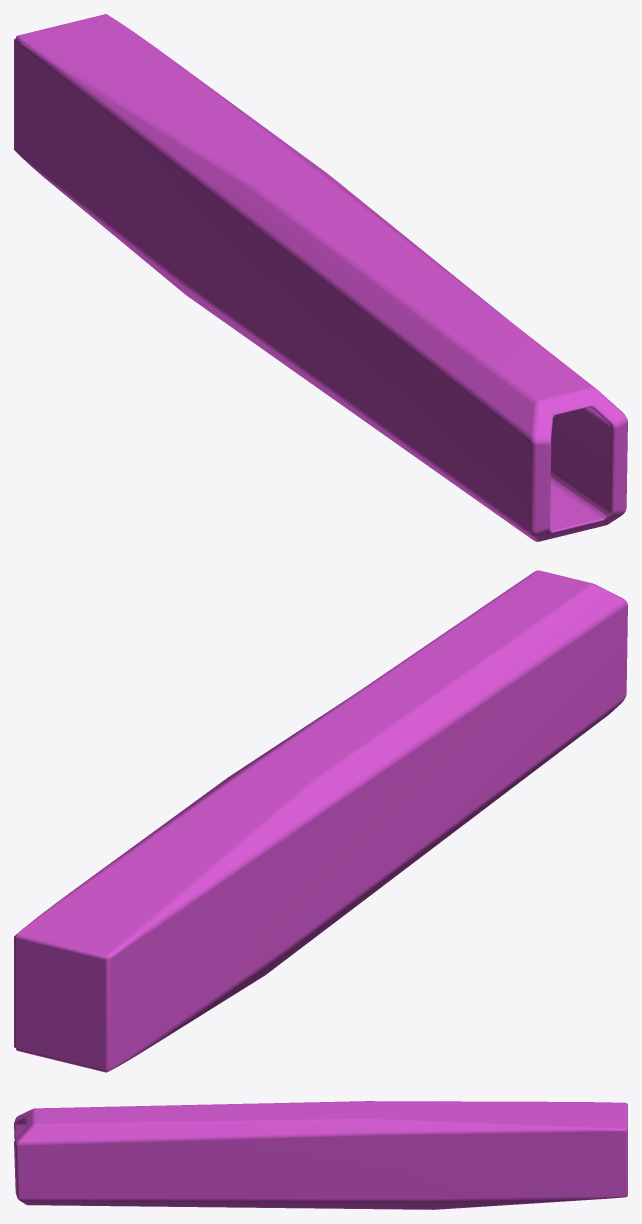
Rendered from part_barrel_03.fbx.
3 renders of one model, top to bottom at view 1: azimuth 30°, elevation 25°; view 2: azimuth 150°, elevation 25°; view 3: azimuth 270°, elevation 25°, orthographic. The views are drawn at different scales.
Parts seen in each view (by area): view 1: part_barrel_03; view 2: part_barrel_03; view 3: part_barrel_03.
Boxes of the visible parts, bbox=[...] form: part_barrel_03: bbox=[14, 14, 627, 541]; part_barrel_03: bbox=[14, 570, 627, 1072]; part_barrel_03: bbox=[14, 1101, 627, 1209].
Bounding box in the file's own units: 6.59 × 9.07 × 56.55.
